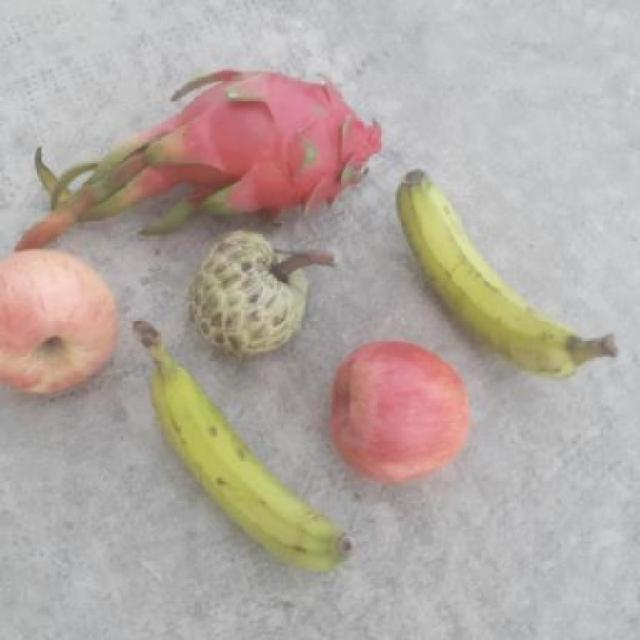apple: (327, 341, 471, 492), (0, 247, 123, 395)
banana: (130, 315, 358, 576), (392, 167, 626, 382)
dragon fruit: (138, 63, 384, 226)
sugar apple: (188, 226, 324, 354)
